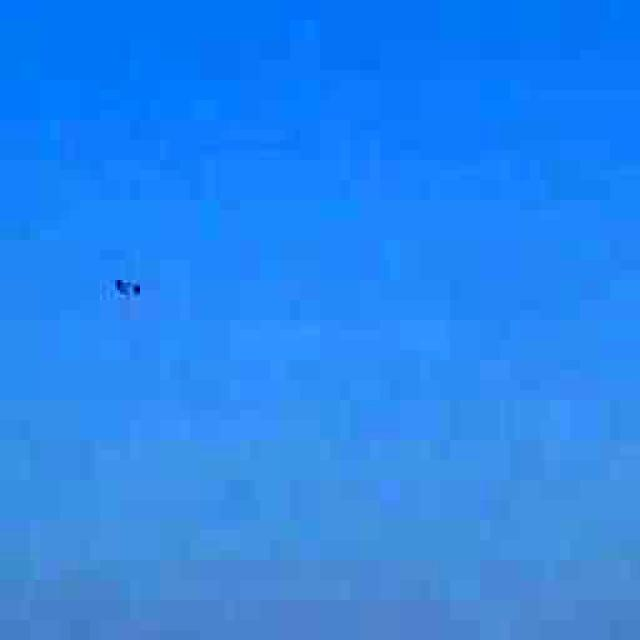bird: (91, 249, 166, 324)
